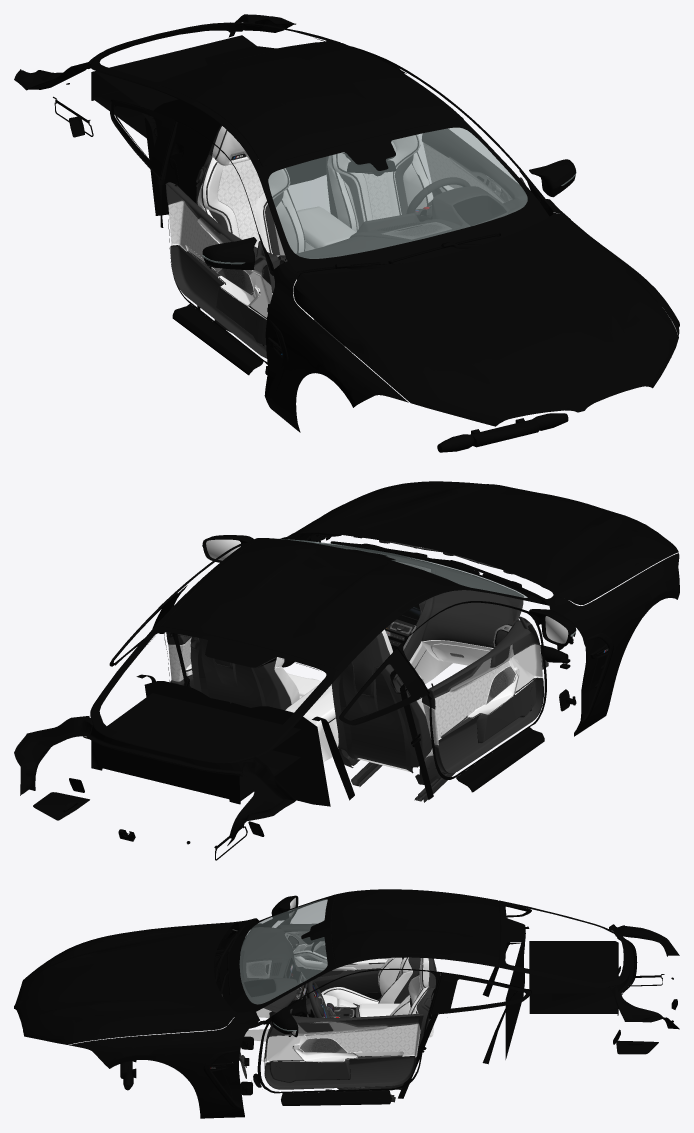
File: bmw-cockpit.glb
3 renders of one model, top to bottom at view 1: azimuth 30°, elevation 25°; view 2: azimuth 150°, elevation 25°; view 3: azimuth 270°, elevation 25°, orthographic. The views are drawn at different scales.
Parts seen in each view (by area): view 1: m8f92_hood.001_m8f92_CarPaint_0, m8f92_body.001_m8f92_Coloured_0, m8f92_windshield_m8f92_glass_0, m8f92_bodyroof_cf_m8f92_Carbon1_0, m8f92_fender_R_comp.001_m8f92_CarPaint_0, m8f92_doorpanel_R.003_m8f92_Interior_0, m8f92_dash.005_m8f92_Interior_0, m8f92_doorpanel_L.003_m8f92_Interior_0, m8f92_seat_FR_m8f92_InteriorTillingColourZone_0, m8f92_seat_FL.001_m8f92_InteriorColor2_0, m8f92_steeringbox_m8f92_0, m8f92_seat_FR.003_m8f92_InteriorColourZone_0 (+18 smaller); view 2: m8f92_body.001_m8f92_Coloured_0, m8f92_hood.001_m8f92_CarPaint_0, m8f92_bodyroof_cf_m8f92_Carbon1_0, m8f92_seat_FR.004_m8f92_Interior_0, m8f92_doorpanel_R.003_m8f92_Interior_0, m8f92_dash.005_m8f92_Interior_0, m8f92_fender_R_comp.001_m8f92_CarPaint_0, m8f92_seat_FL.004_m8f92_Interior_0, m8f92_dash.001_m8f92_InteriorColor2_0, m8f92_doorpanel_R.002_m8f92_InteriorTillingColourZone_0, m8f92_windshield_m8f92_glass_0, m8f92_doorpanel_R.005_m8f92_InteriorColor2_0 (+5 smaller); view 3: m8f92_body.001_m8f92_Coloured_0, m8f92_hood.001_m8f92_CarPaint_0, m8f92_bodyroof_cf_m8f92_Carbon1_0, m8f92_fender_L_comp.001_m8f92_CarPaint_0, m8f92_windshield_m8f92_glass_0, m8f92_doorpanel_L.003_m8f92_Interior_0, m8f92_dash.005_m8f92_Interior_0, m8f92_doorpanel_L.002_m8f92_InteriorTillingColourZone_0, m8f92_doorpanel_R.003_m8f92_Interior_0, m8f92_seat_FR.001_m8f92_InteriorColor2_0, m8f92_doorpanel_L.005_m8f92_InteriorColor2_0, keyvany_fender_L.001_m8f92_CarPaint_0 (+12 smaller).
Boxes of the visible parts, <box> form: m8f92_hood.001_m8f92_CarPaint_0: <box>293,212,678,426</box>; m8f92_body.001_m8f92_Coloured_0: <box>14,14,549,375</box>; m8f92_windshield_m8f92_glass_0: <box>268,127,527,258</box>; m8f92_bodyroof_cf_m8f92_Carbon1_0: <box>161,42,456,166</box>; m8f92_fender_R_comp.001_m8f92_CarPaint_0: <box>265,261,408,432</box>; m8f92_doorpanel_R.003_m8f92_Interior_0: <box>165,182,278,358</box>; m8f92_dash.005_m8f92_Interior_0: <box>272,186,527,346</box>; m8f92_doorpanel_L.003_m8f92_Interior_0: <box>422,128,527,202</box>; m8f92_seat_FR_m8f92_InteriorTillingColourZone_0: <box>217,160,263,247</box>; m8f92_seat_FL.001_m8f92_InteriorColor2_0: <box>327,135,432,231</box>; m8f92_steeringbox_m8f92_0: <box>437,413,568,452</box>; m8f92_seat_FR.003_m8f92_InteriorColourZone_0: <box>207,131,287,252</box>; m8f92_body.001_m8f92_Coloured_0: <box>14,538,576,860</box>; m8f92_hood.001_m8f92_CarPaint_0: <box>294,481,678,605</box>; m8f92_bodyroof_cf_m8f92_Carbon1_0: <box>161,538,456,669</box>; m8f92_seat_FR.004_m8f92_Interior_0: <box>331,633,455,802</box>; m8f92_doorpanel_R.003_m8f92_Interior_0: <box>422,616,543,774</box>; m8f92_dash.005_m8f92_Interior_0: <box>335,547,548,669</box>; m8f92_fender_R_comp.001_m8f92_CarPaint_0: <box>540,553,679,736</box>; m8f92_seat_FL.004_m8f92_Interior_0: <box>190,636,291,710</box>; m8f92_dash.001_m8f92_InteriorColor2_0: <box>285,640,518,761</box>; m8f92_doorpanel_R.002_m8f92_InteriorTillingColourZone_0: <box>423,658,511,745</box>; m8f92_windshield_m8f92_glass_0: <box>271,538,527,597</box>; m8f92_doorpanel_R.005_m8f92_InteriorColor2_0: <box>440,644,542,736</box>; m8f92_body.001_m8f92_Coloured_0: <box>219,889,679,1105</box>; m8f92_hood.001_m8f92_CarPaint_0: <box>14,922,237,1044</box>; m8f92_bodyroof_cf_m8f92_Carbon1_0: <box>331,890,500,964</box>; m8f92_fender_L_comp.001_m8f92_CarPaint_0: <box>69,1009,259,1118</box>; m8f92_windshield_m8f92_glass_0: <box>239,899,327,1004</box>; m8f92_doorpanel_L.003_m8f92_Interior_0: <box>265,1009,423,1089</box>; m8f92_dash.005_m8f92_Interior_0: <box>221,927,359,1059</box>; m8f92_doorpanel_L.002_m8f92_InteriorTillingColourZone_0: <box>304,1023,420,1057</box>; m8f92_doorpanel_R.003_m8f92_Interior_0: <box>277,916,380,993</box>; m8f92_seat_FR.001_m8f92_InteriorColor2_0: <box>321,957,412,1006</box>; m8f92_doorpanel_L.005_m8f92_InteriorColor2_0: <box>265,1034,403,1063</box>; keyvany_fender_L.001_m8f92_CarPaint_0: <box>80,1012,253,1116</box>.
Size of what is drawn, in the model's own units: 2.16 by 1.17 by 4.63.
22 materials, 13 textured.
